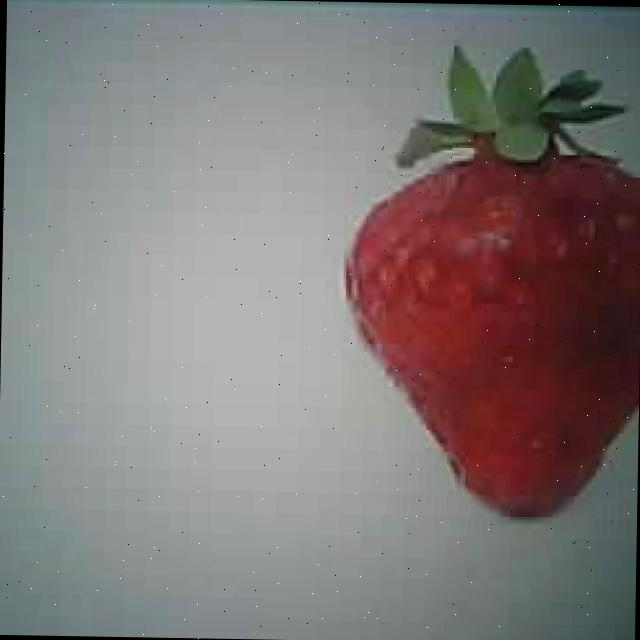strawberry: (343, 149, 640, 516)
